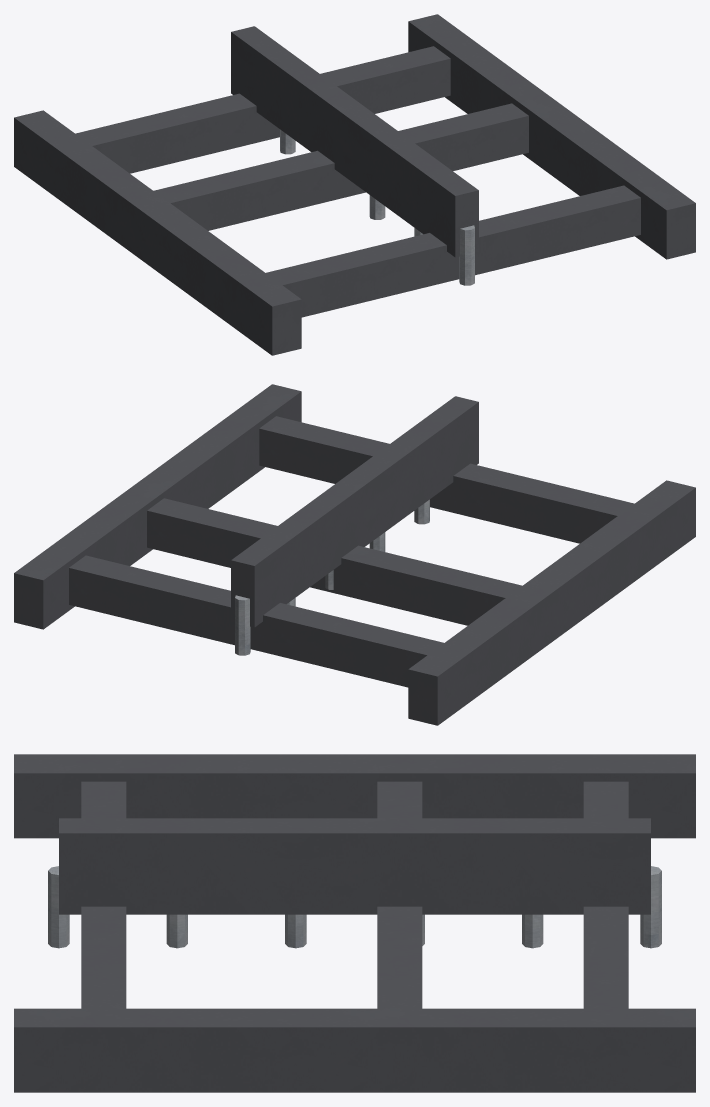
Rendered from bumper_compact.gltf.
The picture shows the model from 3 angles, top to bottom: view 1: azimuth 30°, elevation 25°; view 2: azimuth 150°, elevation 25°; view 3: azimuth 270°, elevation 25°; orthographic projection. The views are drawn at different scales.
Parts seen in each view (by area): view 1: bumper_compact; view 2: bumper_compact; view 3: bumper_compact.
Part boxes in pixels (x1=…): bumper_compact: x1=14, y1=14, x2=695, y2=355; bumper_compact: x1=14, y1=384, x2=695, y2=725; bumper_compact: x1=14, y1=754, x2=695, y2=1092.
Size of the model in its own units: 0.72 by 0.16 by 0.76.
2 materials, 2 textured.
